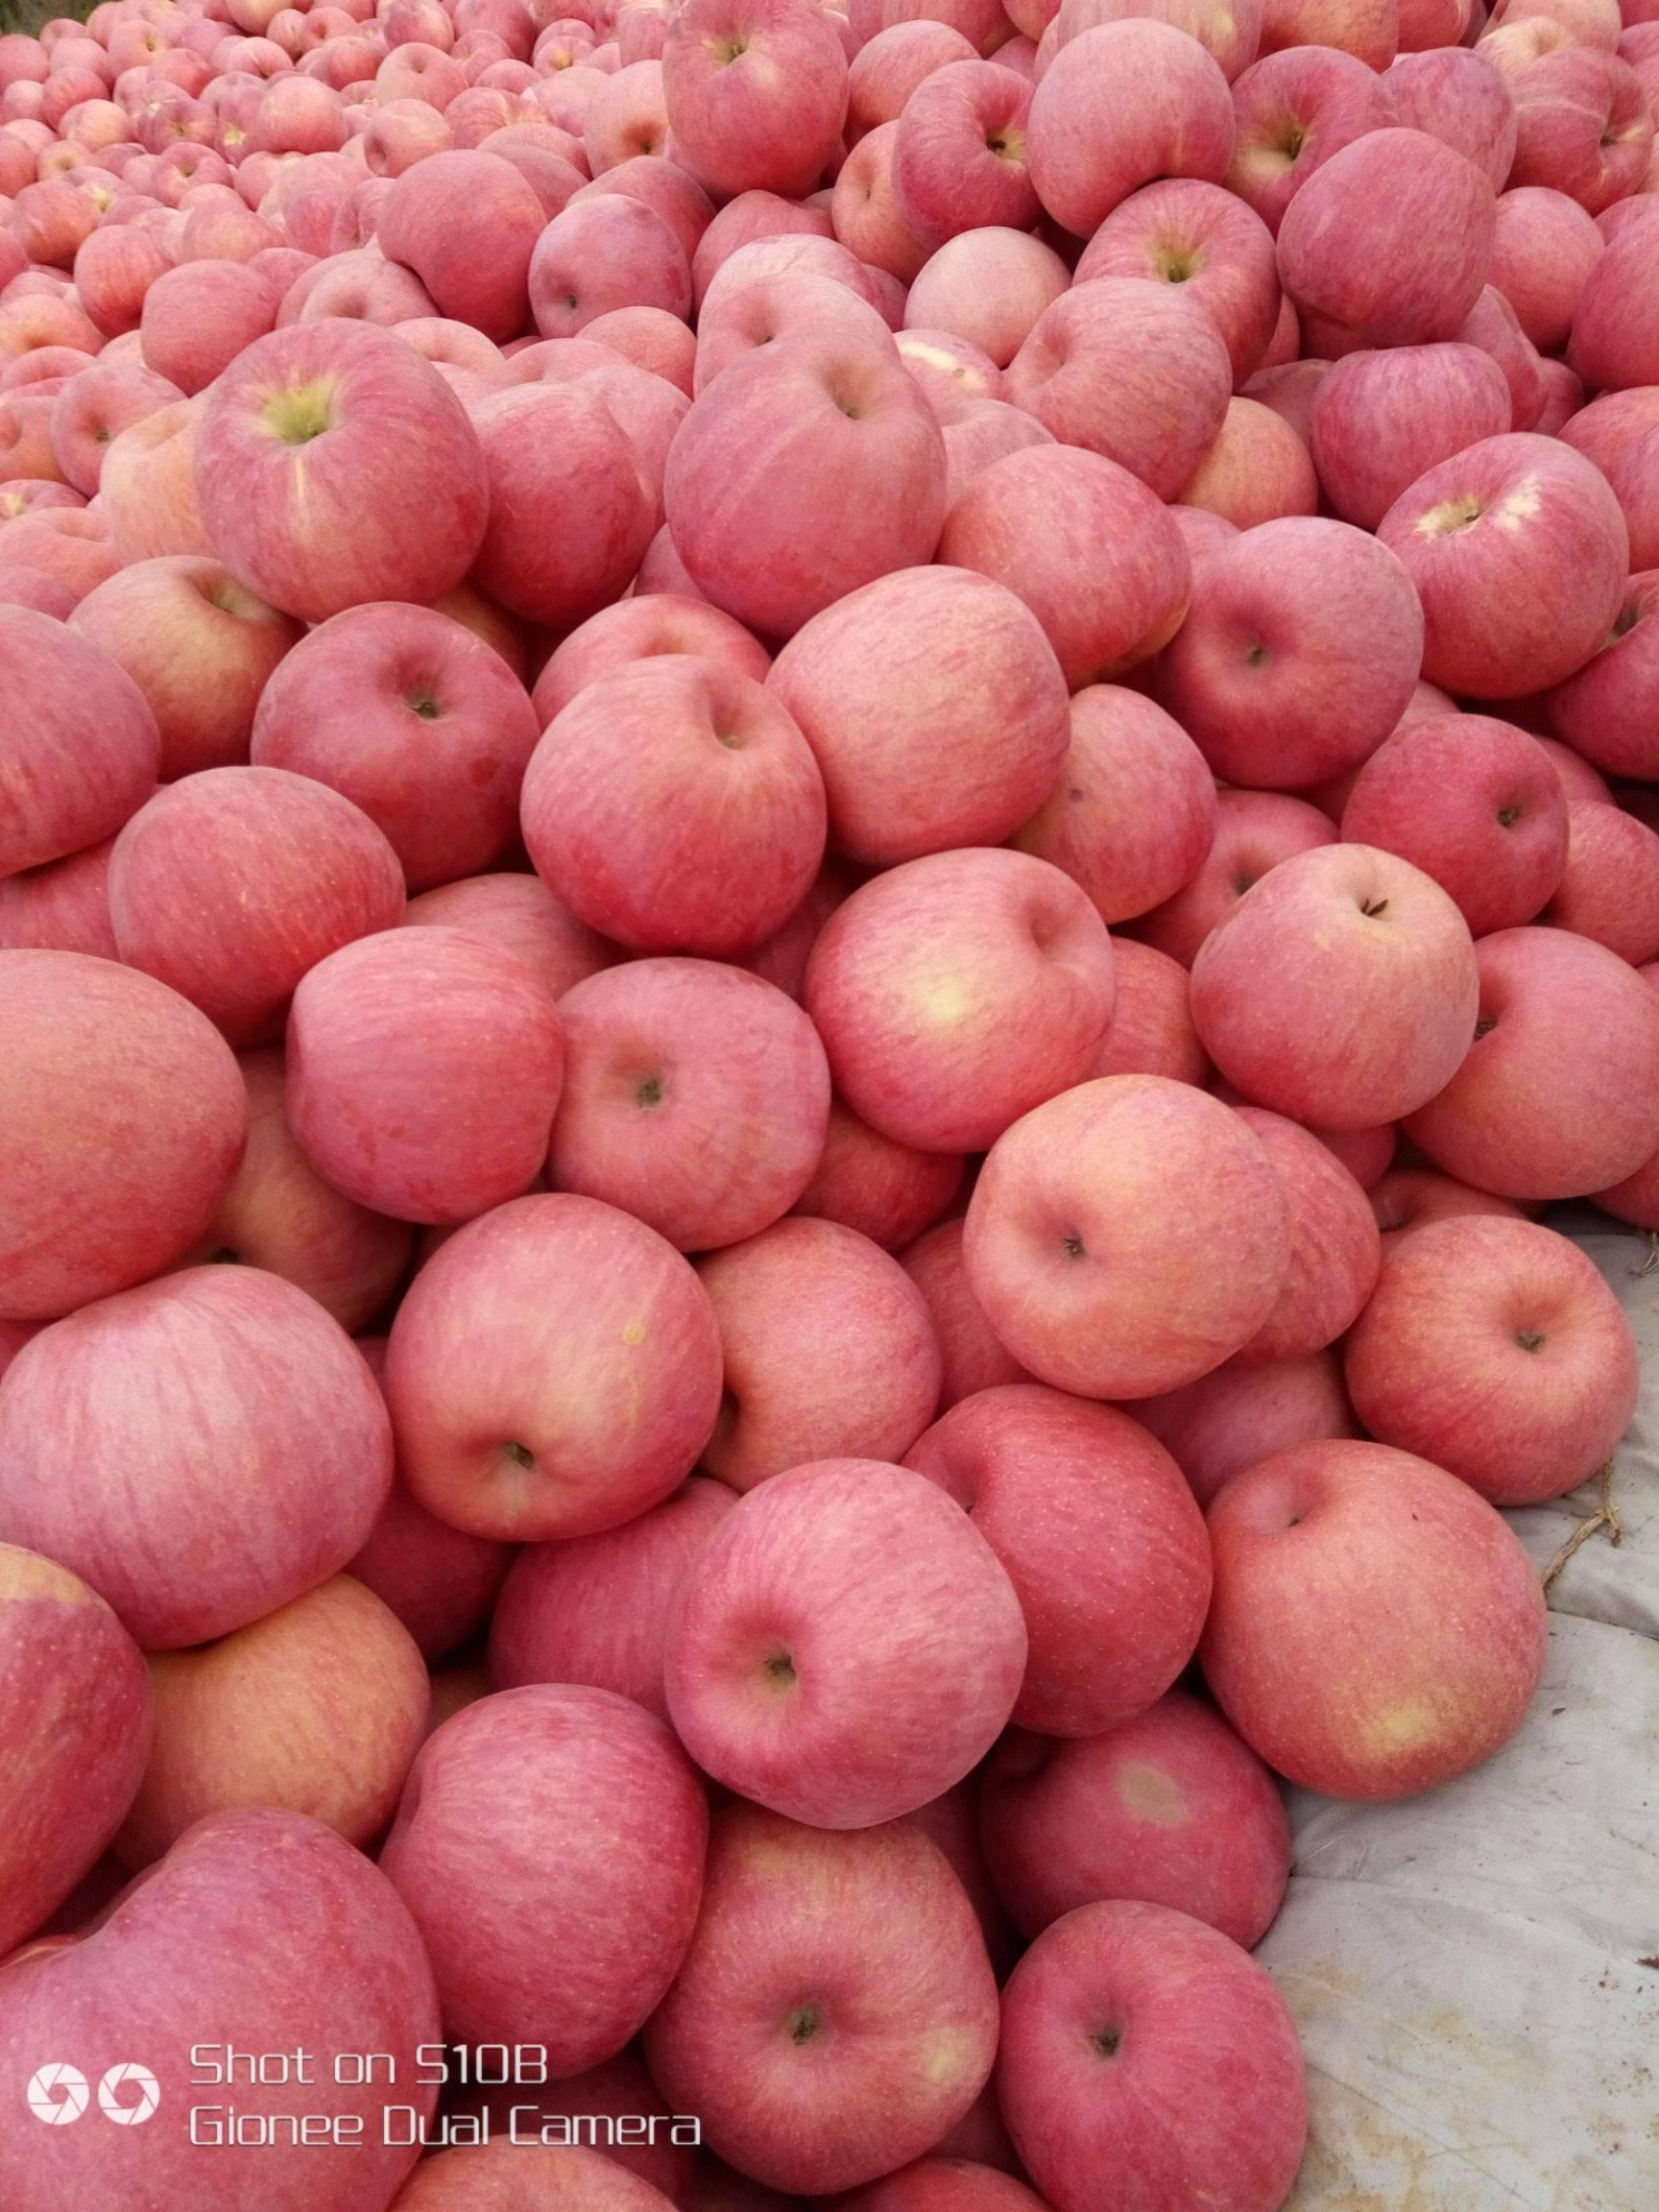apple: (7, 1820, 444, 2210), (2, 1261, 389, 1653), (655, 1451, 1023, 1829), (648, 1808, 1002, 2196), (375, 1681, 706, 2094), (1190, 1446, 1551, 1813), (382, 1197, 723, 1554), (901, 1379, 1220, 1740), (965, 1071, 1295, 1399), (1002, 1890, 1314, 2212), (1335, 1205, 1643, 1521), (103, 1578, 432, 1869), (805, 845, 1117, 1148), (756, 561, 1072, 860), (512, 653, 823, 953), (662, 322, 953, 620), (202, 319, 490, 620), (7, 949, 242, 1317), (103, 768, 401, 1054), (544, 958, 828, 1252), (251, 603, 545, 887), (1187, 850, 1483, 1130), (284, 927, 561, 1226), (981, 1700, 1293, 1959), (681, 1216, 948, 1496), (1164, 519, 1431, 791), (1410, 923, 1659, 1207), (1371, 427, 1628, 702), (2, 1541, 155, 1944), (939, 448, 1192, 683), (1004, 679, 1220, 939), (61, 559, 298, 782), (1002, 279, 1229, 502), (1344, 714, 1567, 923), (1274, 129, 1499, 333), (472, 387, 660, 625), (1035, 17, 1241, 230), (1058, 181, 1276, 373), (5, 608, 157, 883), (1302, 340, 1514, 531), (664, 5, 852, 190), (375, 148, 551, 340), (1223, 42, 1405, 219), (894, 59, 1046, 244), (519, 193, 685, 333), (139, 260, 279, 392), (51, 362, 186, 491), (352, 103, 446, 178), (373, 44, 469, 111)
